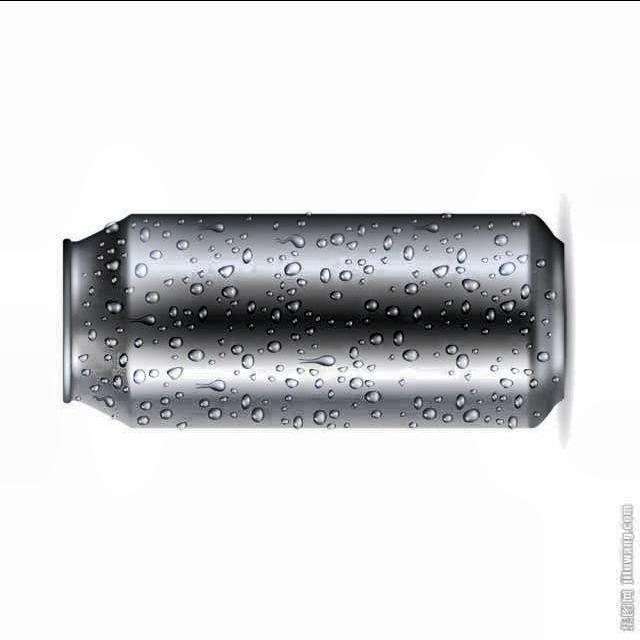Aluminum Can: (52, 202, 581, 435)
